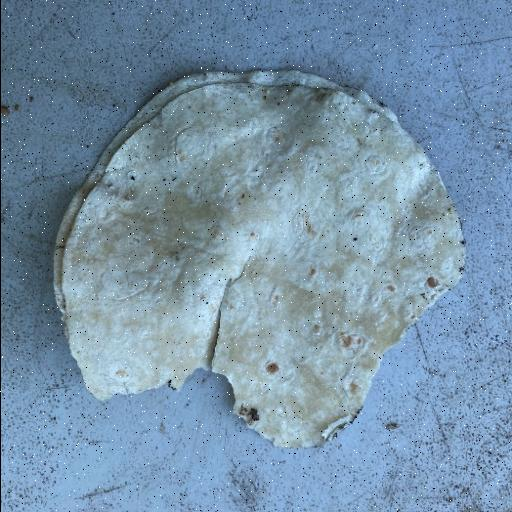Waste: (51, 66, 467, 450)
